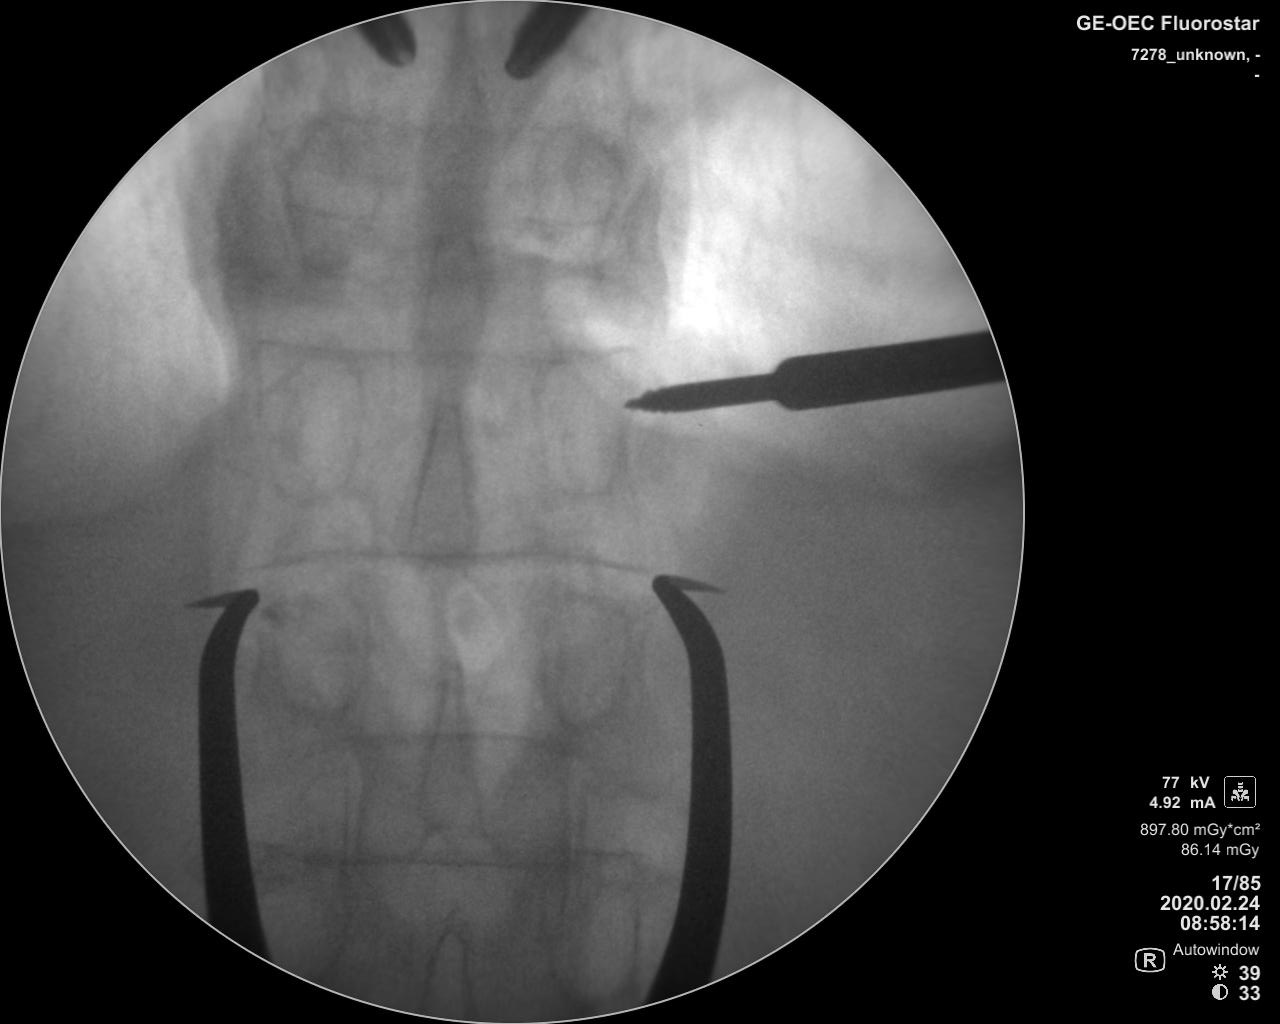eyes: (279, 112, 379, 273), (259, 355, 356, 508), (536, 592, 630, 734), (265, 594, 369, 720), (532, 362, 619, 501), (546, 879, 637, 1002), (532, 127, 625, 246)
line: (246, 330, 639, 371), (238, 544, 652, 580), (255, 848, 597, 884), (265, 727, 584, 761)
nose: (401, 380, 479, 581), (422, 13, 498, 213), (409, 216, 495, 364), (414, 660, 487, 832), (413, 921, 479, 1017)
